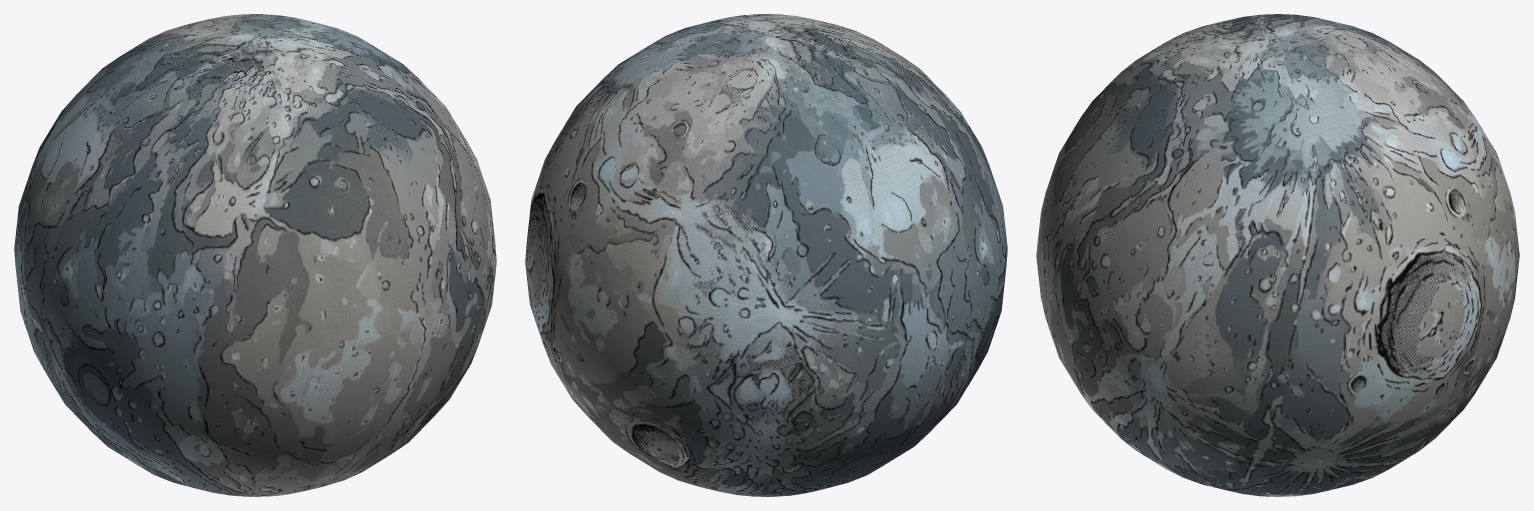
The model's file is Murcury.glb.
The picture shows the model from 3 angles, left to right: view 1: azimuth 30°, elevation 25°; view 2: azimuth 150°, elevation 25°; view 3: azimuth 270°, elevation 25°; orthographic projection.
Visible parts, largest first — view 1: Mars; view 2: Mars; view 3: Mars.
Part boxes in pixels (x1,y1,x2,y2): Mars: (14,14,496,496); Mars: (525,14,1007,496); Mars: (1036,14,1519,496).
Size of the model in its own units: 2 by 2.01 by 2.
Materials: 2 (1 with a texture image).
